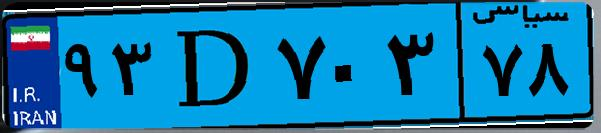0: (330, 28, 385, 110)
3: (385, 28, 445, 110), (110, 28, 158, 98)
7: (270, 28, 330, 110), (475, 38, 525, 113)
8: (525, 38, 570, 115)
9: (57, 26, 110, 100)
D: (158, 12, 270, 120)
